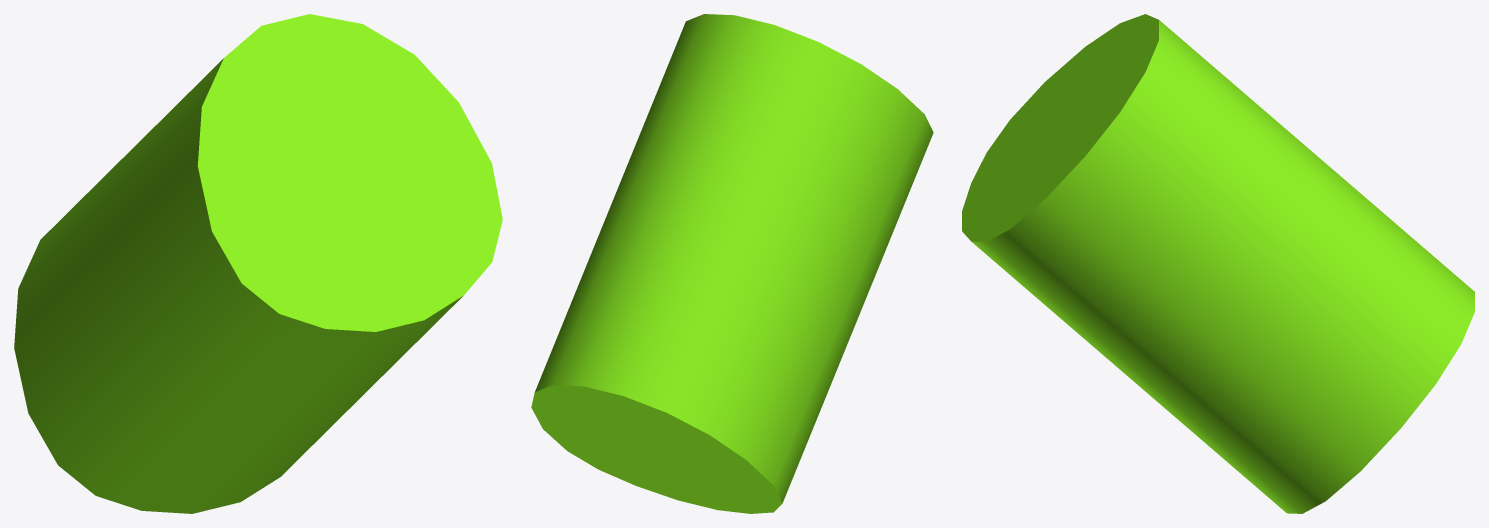
File: Liquid.fbx
The picture shows the model from 3 angles, left to right: view 1: azimuth 30°, elevation 25°; view 2: azimuth 150°, elevation 25°; view 3: azimuth 270°, elevation 25°; orthographic projection. The views are drawn at different scales.
Visible parts, largest first — view 1: Liquid; view 2: Liquid; view 3: Liquid.
Part boxes in pixels (x1,y1,x2,y2): Liquid: (14, 14, 502, 513); Liquid: (531, 14, 933, 513); Liquid: (962, 14, 1474, 513).
Size of the model in its own units: 2.58 by 4.75 by 4.76.
